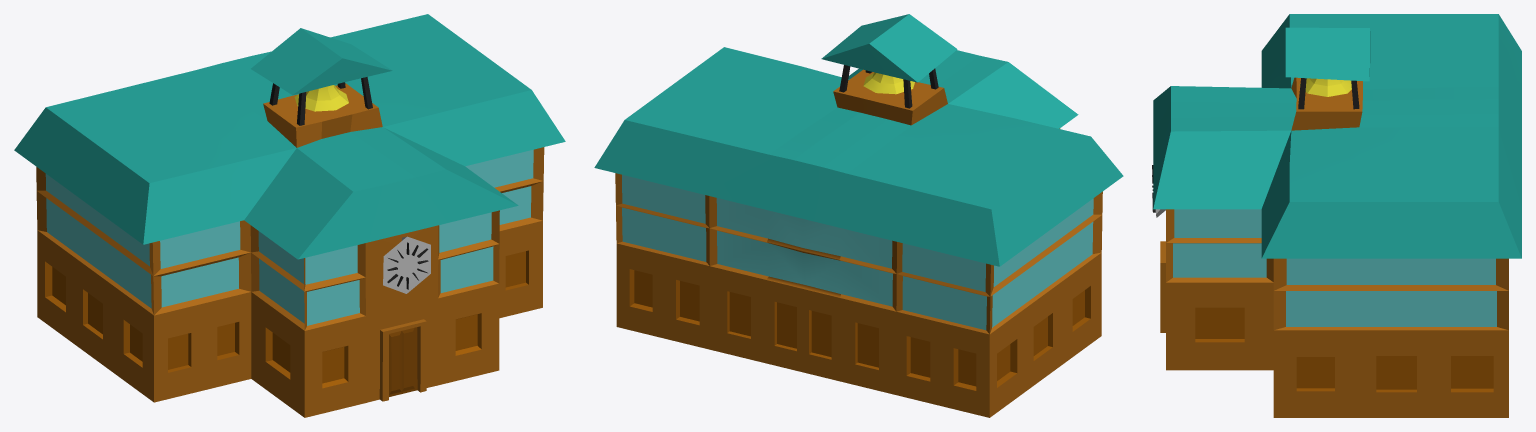
Rendered from school.fbx.
3 renders of one model, left to right at view 1: azimuth 30°, elevation 25°; view 2: azimuth 150°, elevation 25°; view 3: azimuth 270°, elevation 25°, orthographic. The views are drawn at different scales.
Parts seen in each view (by area): view 1: front2; view 2: front2; view 3: front2.
Part boxes in pixels (x1,y1,x2,y2): front2: (14,14,565,417); front2: (594,14,1123,417); front2: (1152,14,1521,417).
Size of the model in its own units: 397 by 263 by 299.
